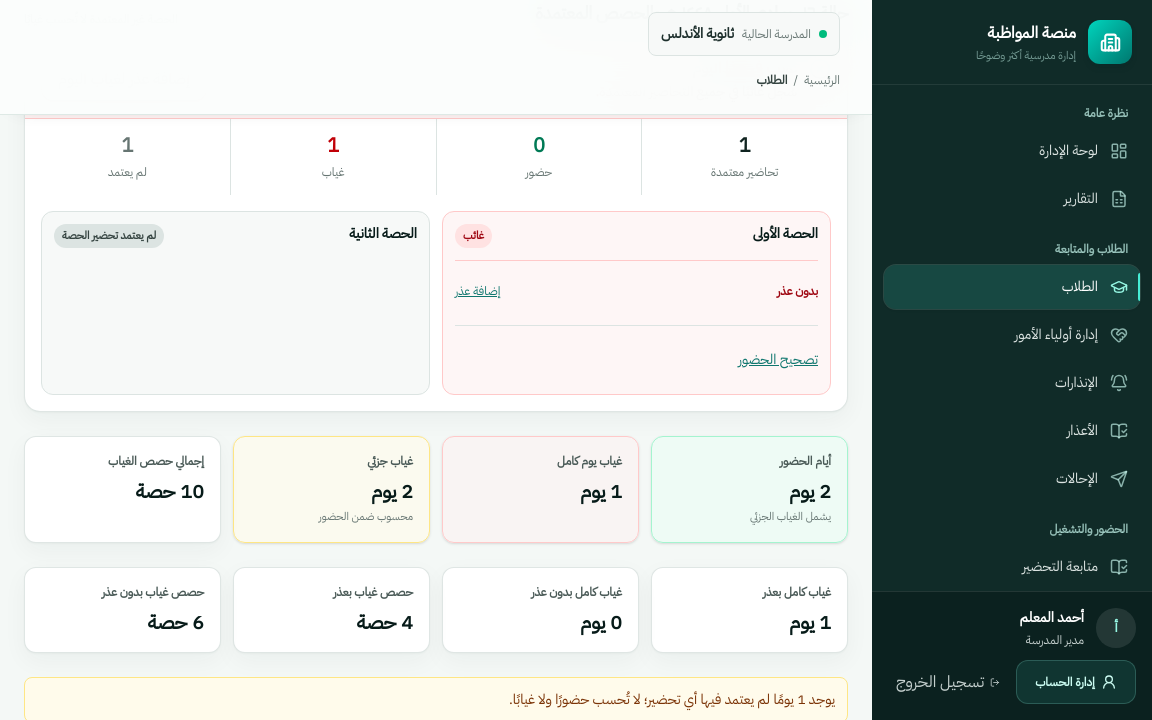
Test: student attendance profile (Phase 9) › lets a manager correct only a submitted student's period with a reason
(page scrolled)
Click the button "تصحيح الحضور".
click(778, 360)  # box [738,338,818,382]
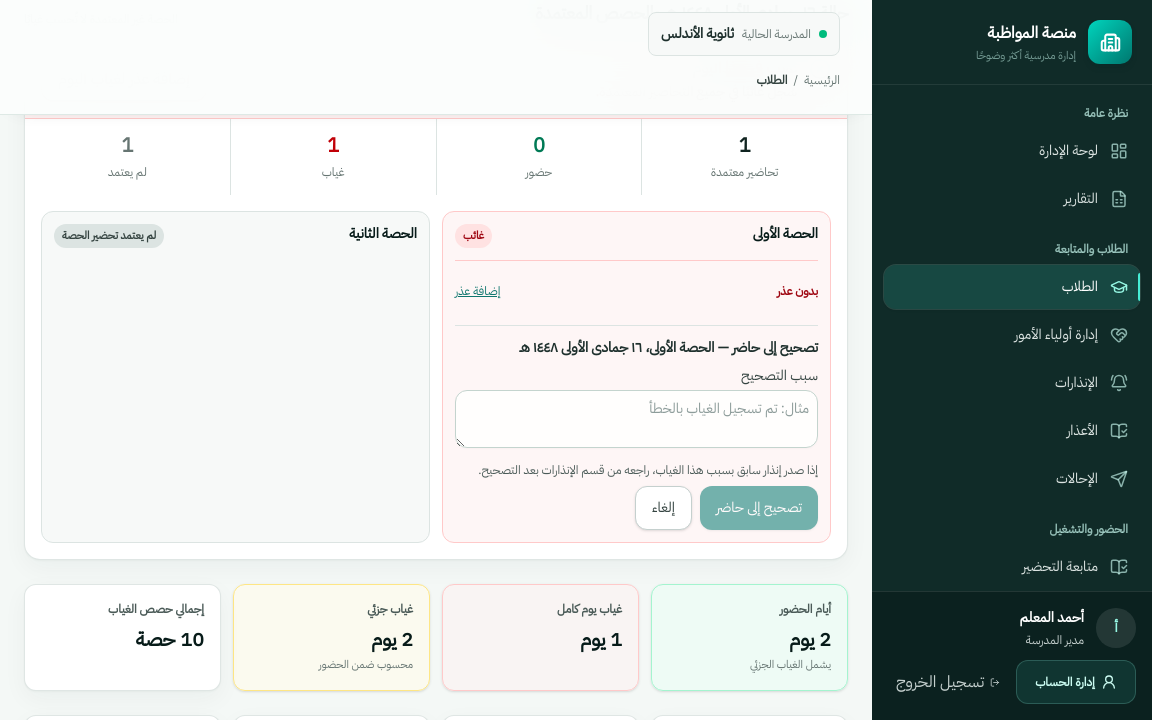
Expected: the button "تصحيح إلى حاضر" is disabled, [700,486,818,530]
Type "تم تسجيل الغياب بالخطأ" into the text box labelled "سبب التصحيح".
click(636, 419); type("تم تسجيل الغياب بالخطأ")  # box [455,390,818,448]
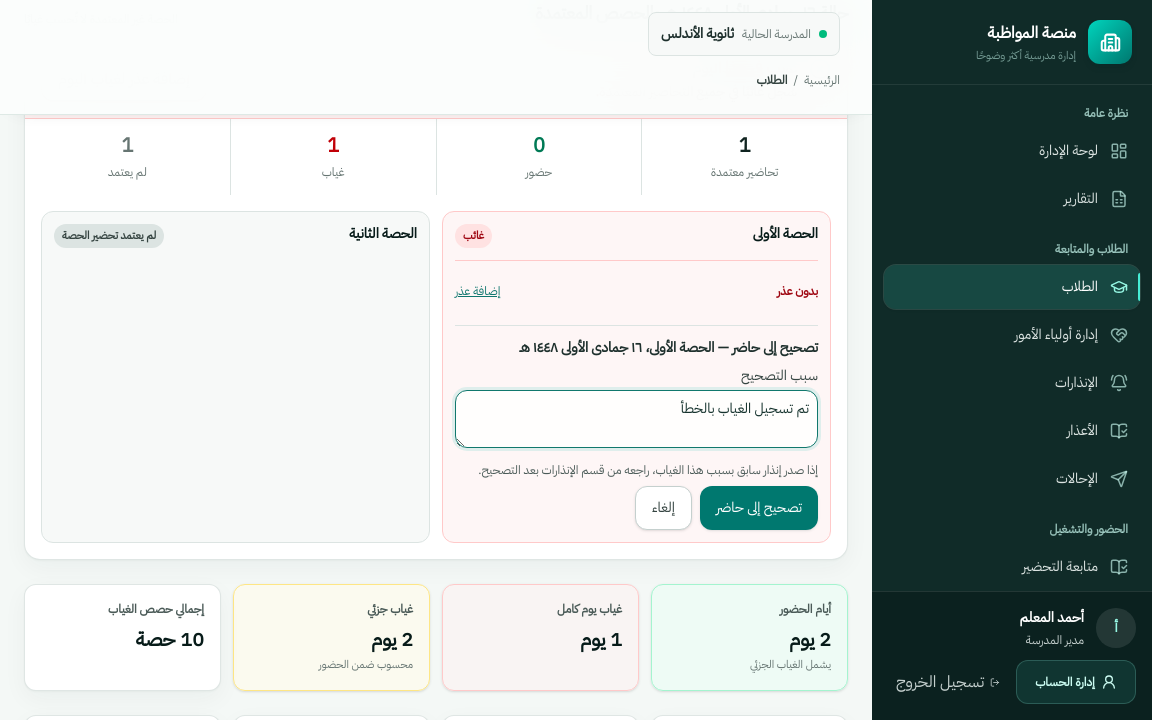
Click the button "تصحيح إلى حاضر".
click(759, 508)  # box [700,486,818,530]
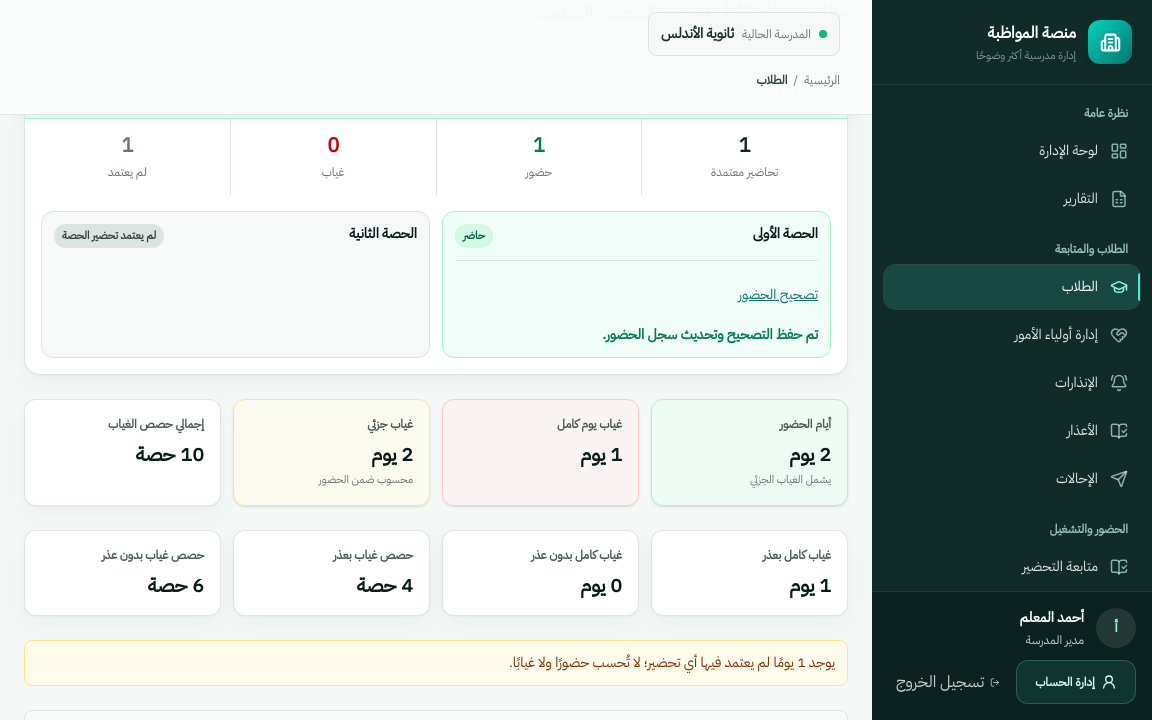
Expected: the element with test id "period-status-1" shows "حاضر", [463,226,485,244]
Expected: the text "تم حفظ التصحيح وتحديث سجل الحضور." is shown, [602,324,818,345]
